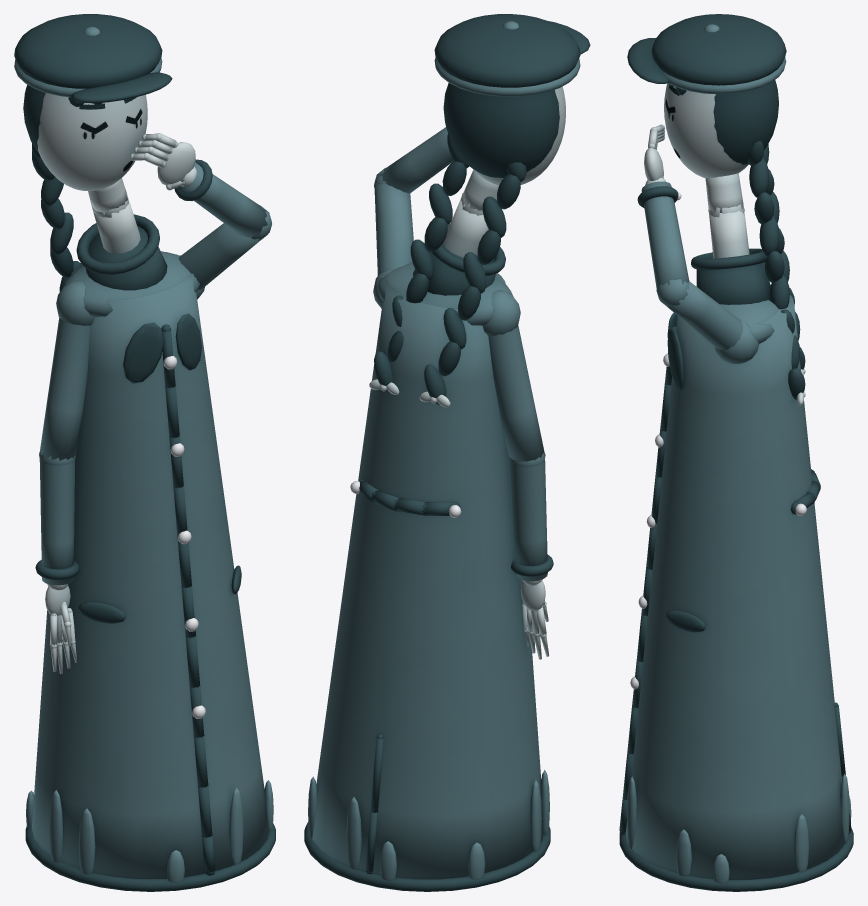
Rendered from clown_v2_static.glb.
3 views of the same model, side by side, from view 1: azimuth 30°, elevation 25°; view 2: azimuth 150°, elevation 25°; view 3: azimuth 270°, elevation 25° (orthographic). The views are drawn at different scales.
Visible parts, largest first — view 1: body, head; view 2: body, head; view 3: body, head.
Part boxes in pixels (x1,y1,x2,y2): body: [14, 14, 275, 891]; head: [37, 93, 147, 191]; body: [304, 14, 590, 891]; head: [472, 86, 565, 185]; body: [619, 14, 853, 891]; head: [664, 83, 748, 178].
Bounding box in the file's own units: 0.636 × 2.08 × 0.5612.
2 materials, 2 textured.
